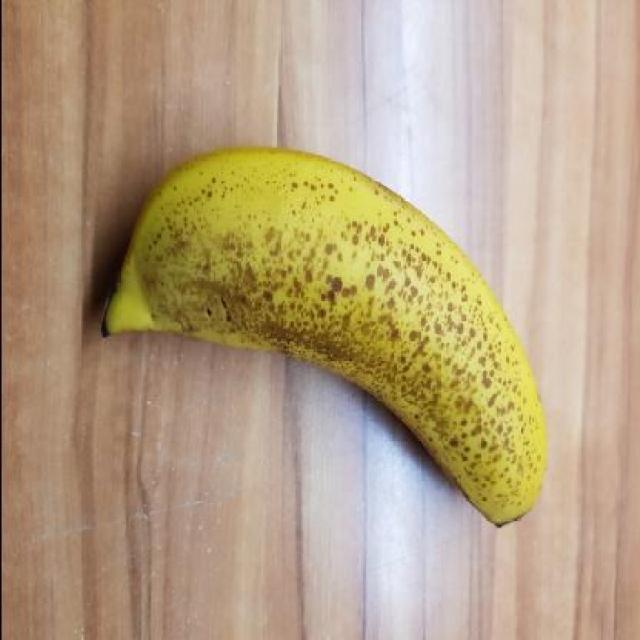Banana: (90, 136, 550, 530)
